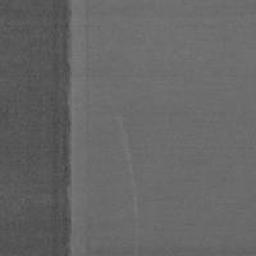Welding line: (67, 0, 74, 256)
